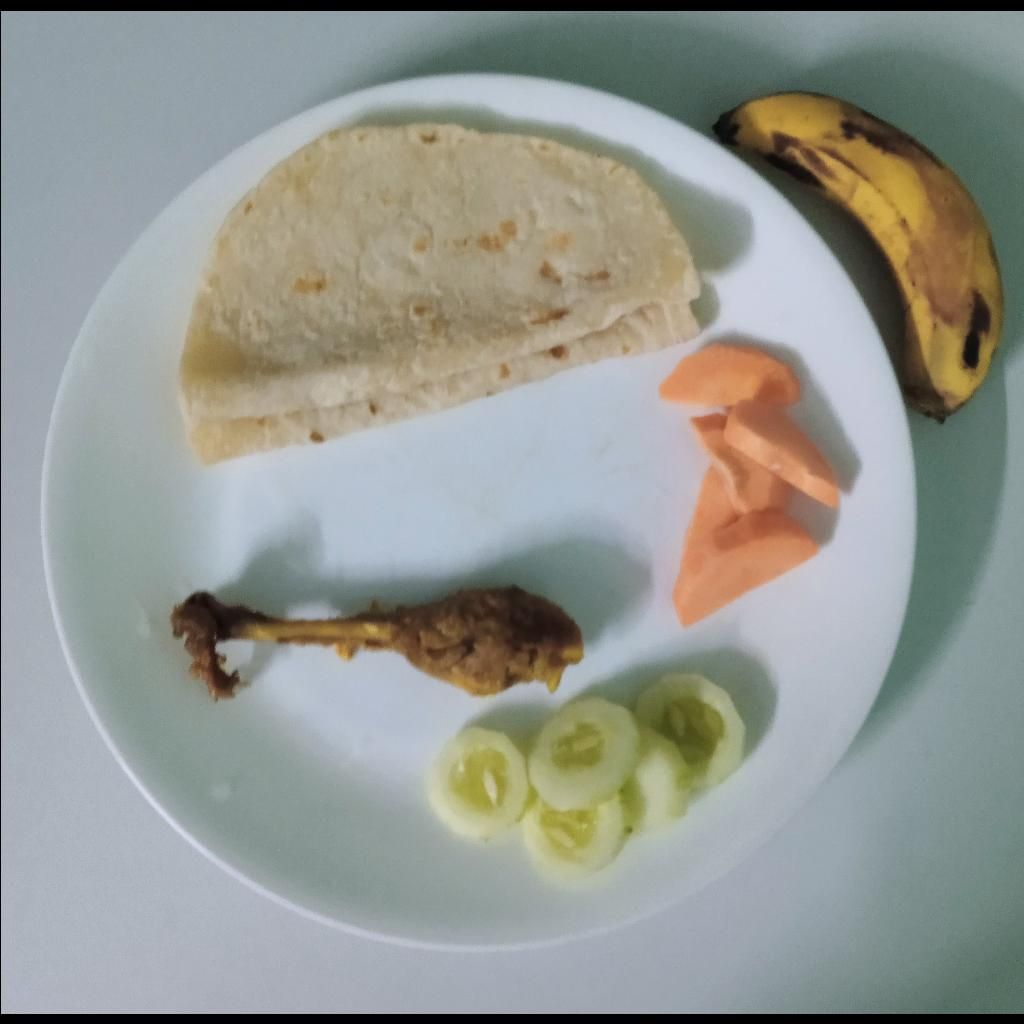banana: (712, 91, 1002, 423)
carrot: (661, 341, 841, 628)
chicken: (172, 584, 583, 701)
cucumber: (426, 671, 749, 874)
ruti: (176, 124, 705, 468)
